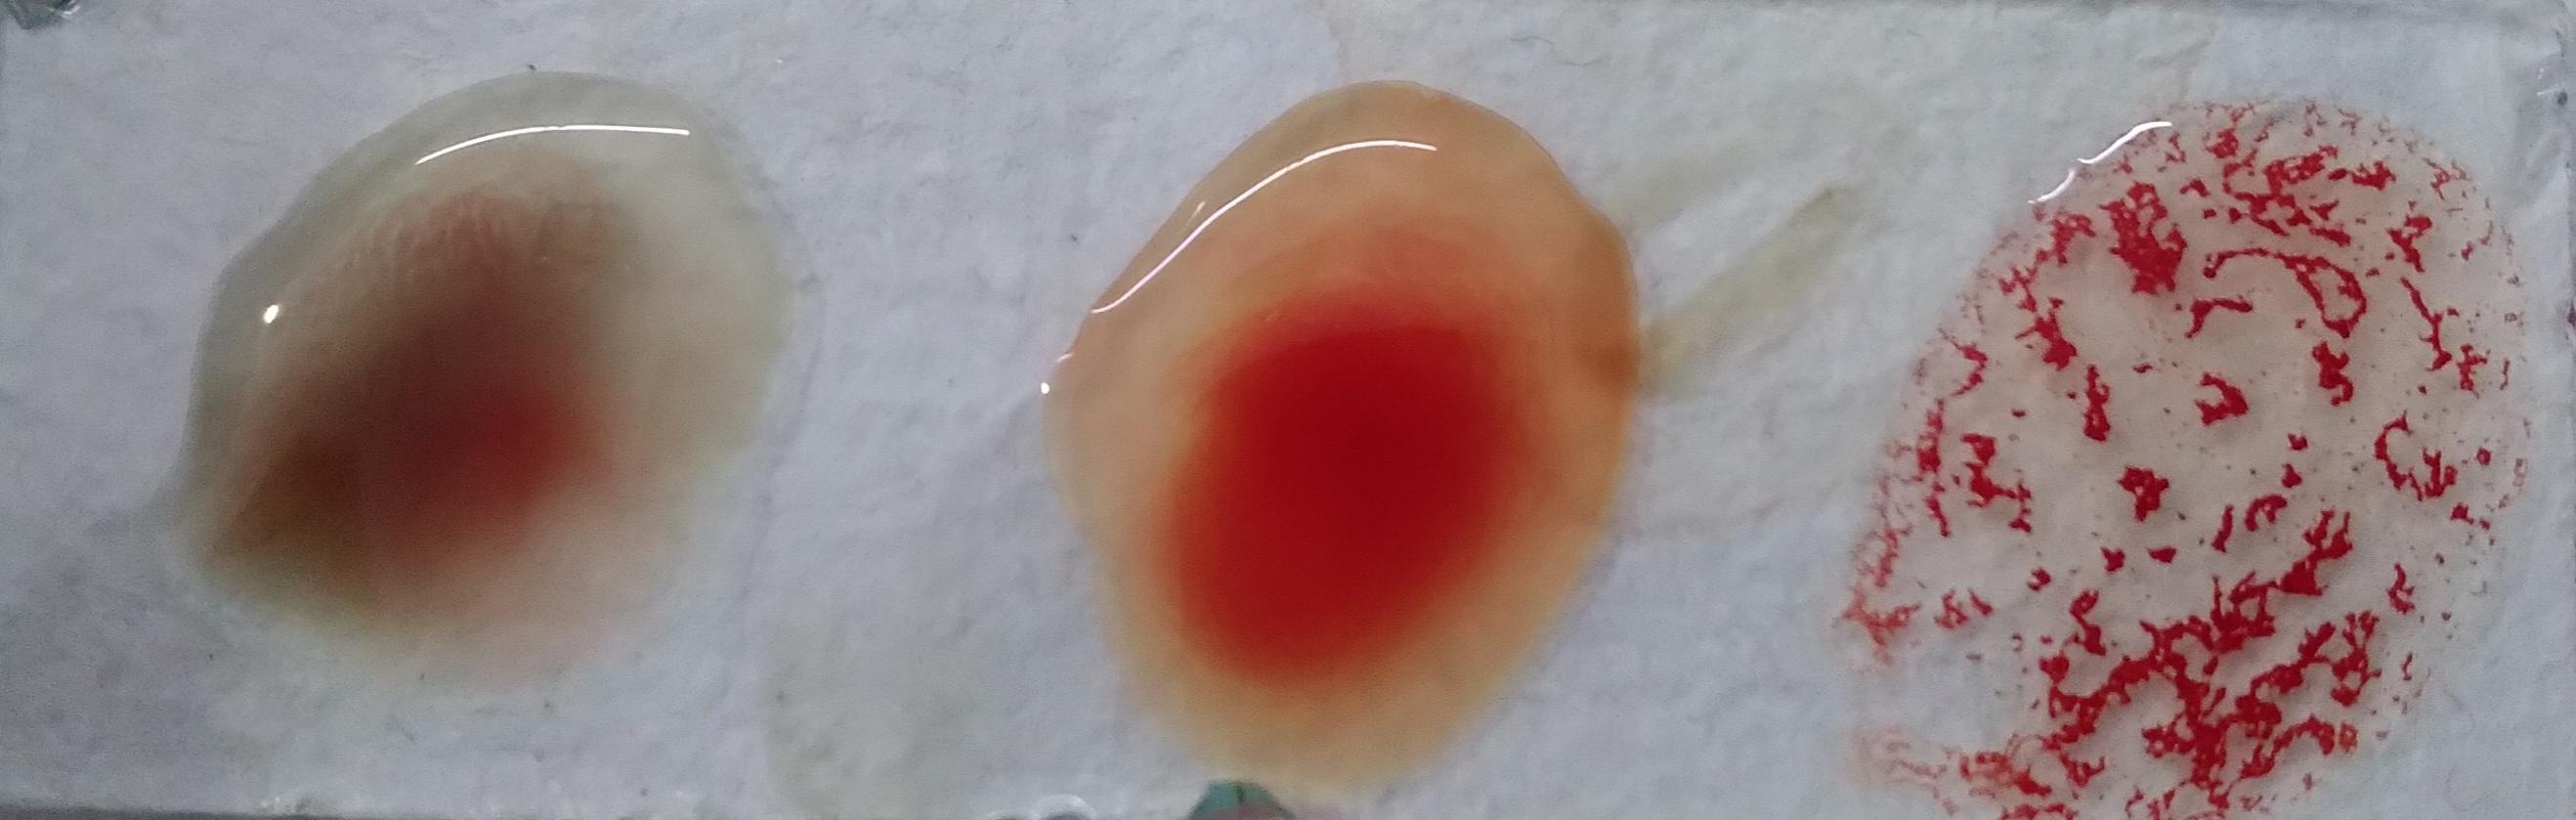D: (85, 0, 715, 733)
